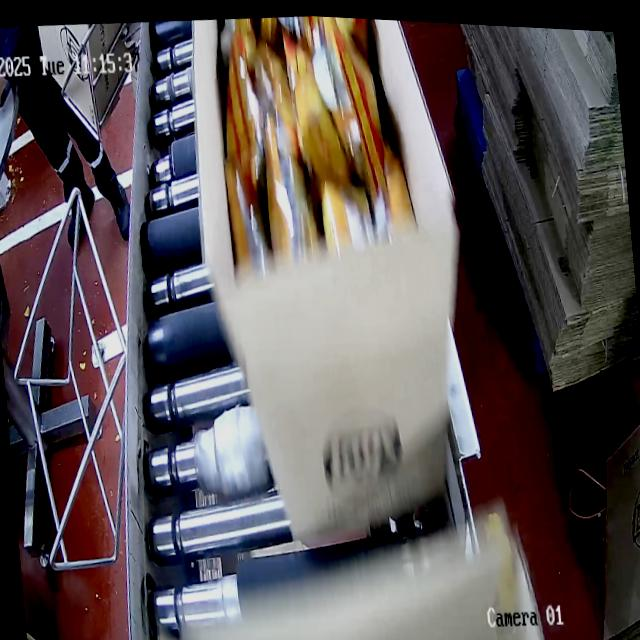FRENCH_CHEESE: (208, 11, 407, 282)
